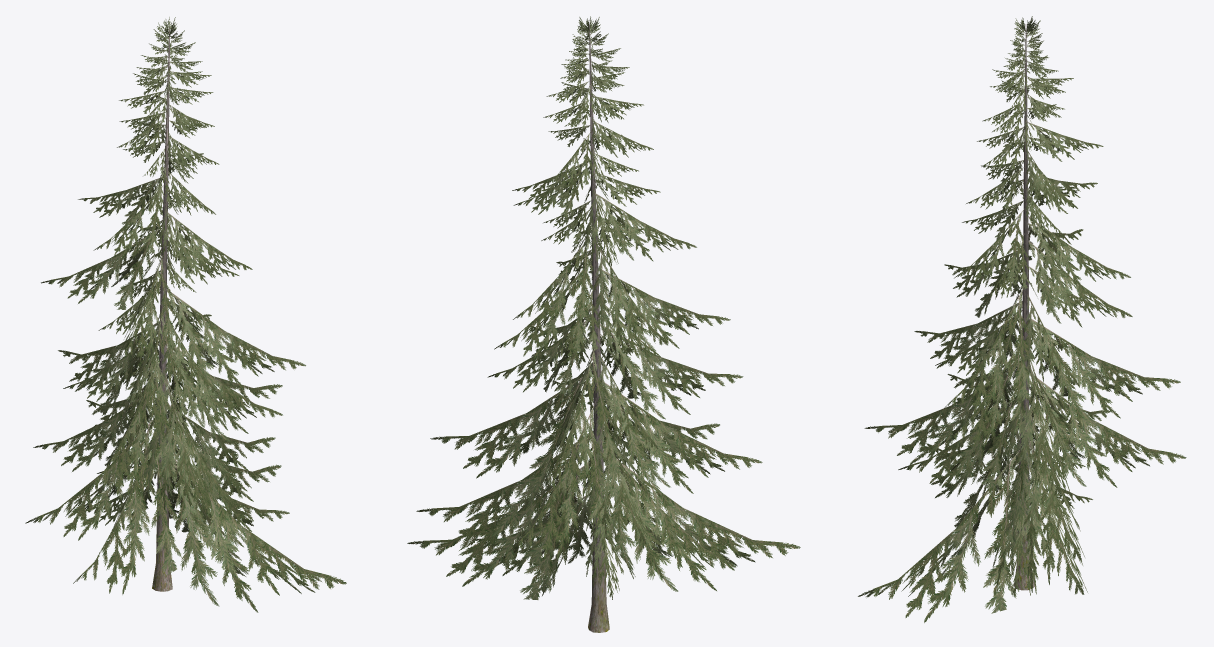
File: spruce_LOD2.fbx
The picture shows the model from 3 angles, left to right: view 1: azimuth 30°, elevation 25°; view 2: azimuth 150°, elevation 25°; view 3: azimuth 270°, elevation 25°; orthographic projection. The views are drawn at different scales.
Visible parts, largest first — view 1: spruce 2_1, spruce 1_0; view 2: spruce 2_1, spruce 1_0; view 3: spruce 2_1, spruce 1_0.
Part boxes in pixels (box(x1,y1,x2,y2)): spruce 2_1: box(25, 17, 346, 612); spruce 1_0: box(152, 27, 172, 591); spruce 2_1: box(407, 16, 800, 599); spruce 1_0: box(588, 24, 609, 632); spruce 2_1: box(858, 16, 1186, 622); spruce 1_0: box(1014, 24, 1034, 590).
Bounding box in the file's own units: 117 × 208 × 115.
Materials: 2 (2 with a texture image).
